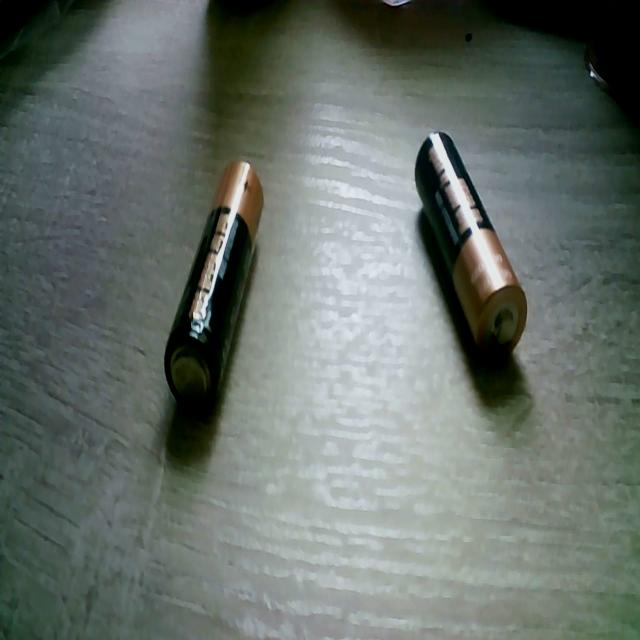AA: (413, 128, 528, 362), (163, 158, 264, 414)
